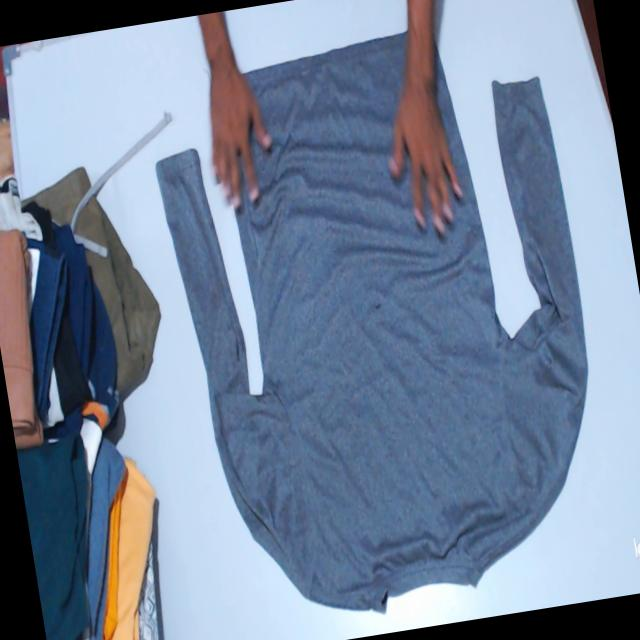new-garment: (158, 35, 587, 610)
